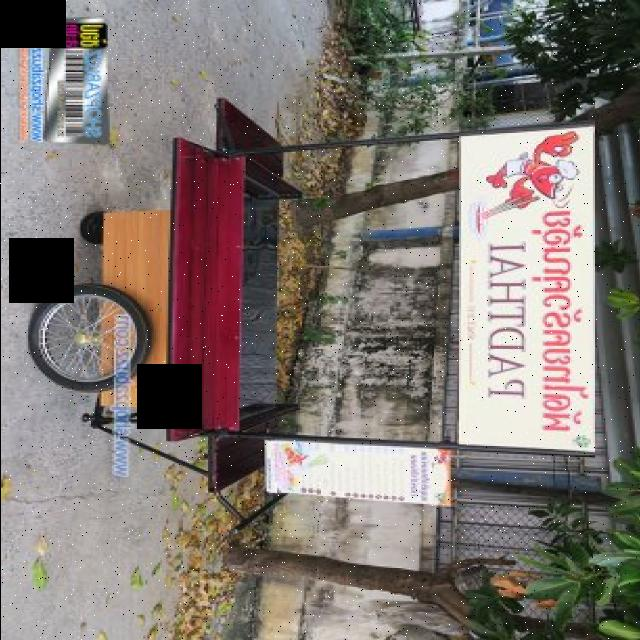food-booth: (33, 97, 594, 491)
